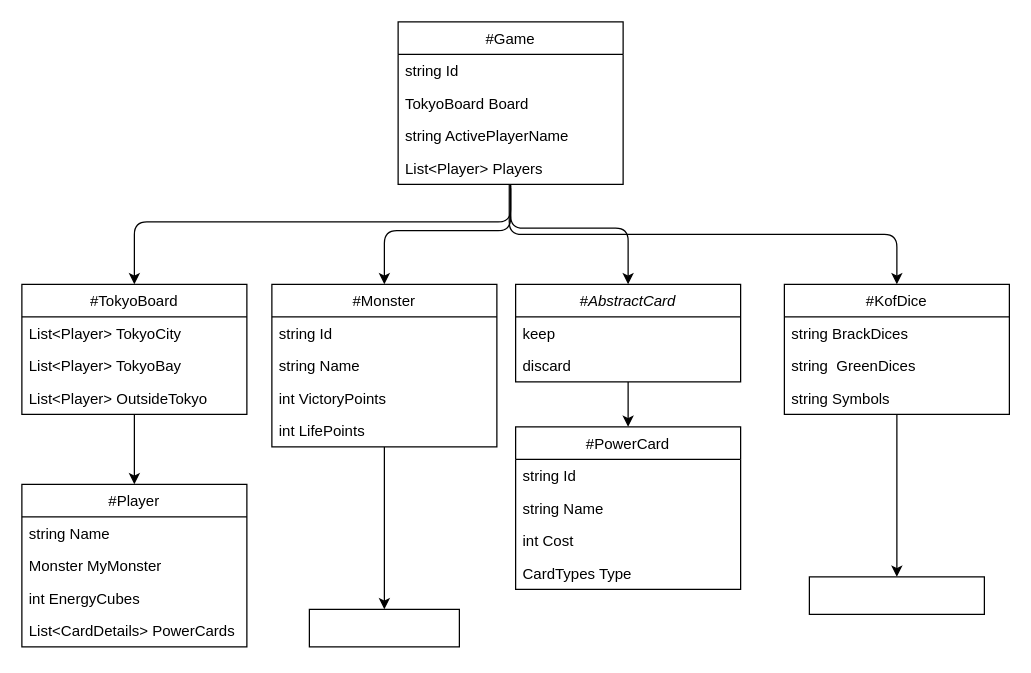
Image size: 1031x673. Some labels were removed from this diagram. The shapes that lost their labels are listed below. From the top down, each one's centre as x and y in pixels, then its label:
At [896,595]: "#ChoosenDicePayload".
At [383,627]: "#PlayerPayload".
